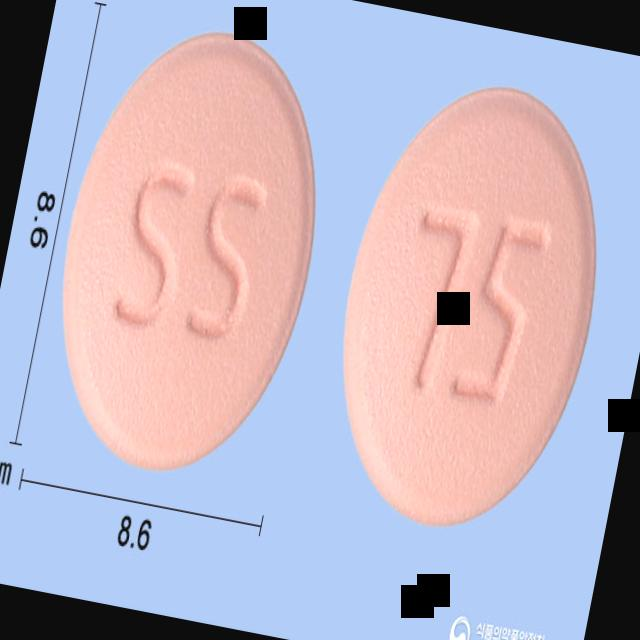Clozex: (306, 61, 632, 550), (27, 5, 350, 492)
